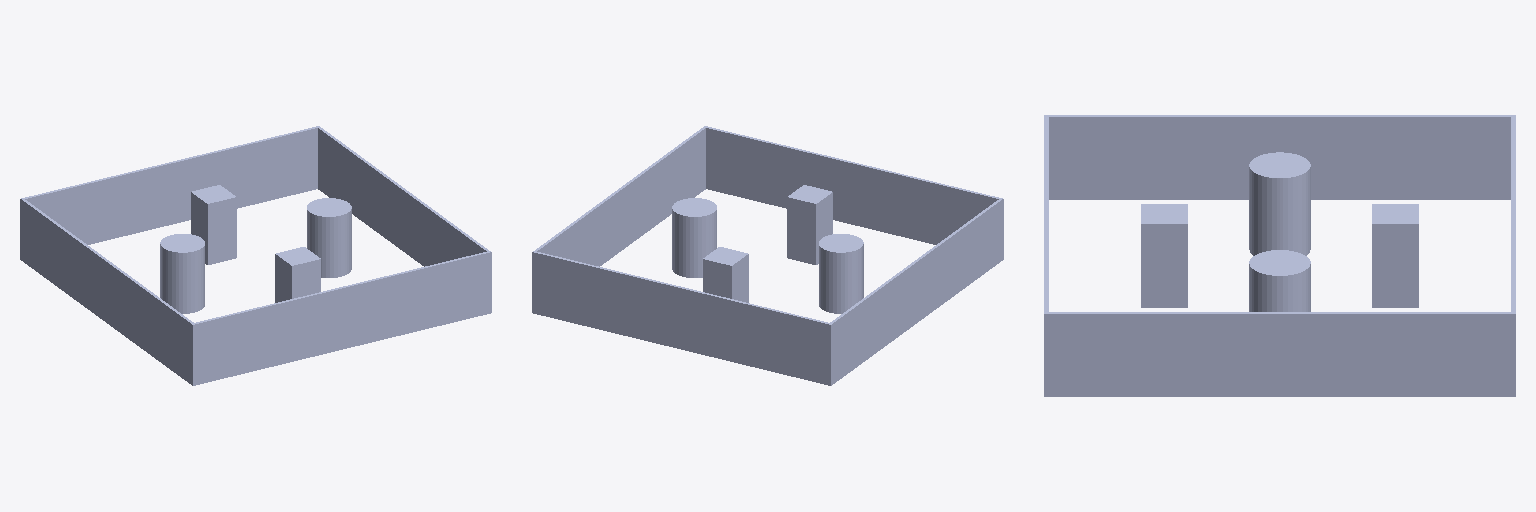
The robot description file, URDF, robot "map1":
<?xml version="1.0" encoding="utf-8"?>
<!-- This URDF was automatically created by SolidWorks to URDF Exporter! Originally created by Stephen Brawner (brawner@gmail.com) 
     Commit Version: 1.6.0-4-g7f85cfe  Build Version: 1.6.7995.38578
     For more information, please see http://wiki.ros.org/sw_urdf_exporter -->
<robot
  name="map1">
  <link
    name="base_link">
    <inertial>
      <origin
        xyz="6.21724893790088E-15 -6.66133814775094E-16 0.299999999999999"
        rpy="0 0 0" />
      <mass
        value="476.956447372311" />
      <inertia
        ixx="350.476905894894"
        ixy="-7.15071013235315E-13"
        ixz="1.3688478683882E-13"
        iyy="350.476905894894"
        iyz="4.42029968183995E-14"
        izz="672.336424947449" />
    </inertial>
    <visual>
      <origin
        xyz="0 0 0"
        rpy="0 0 0" />
      <geometry>
        <mesh
          filename="package://map1/meshes/base_link.STL" />
      </geometry>
      <material
        name="">
        <color
          rgba="0.792156862745098 0.819607843137255 0.933333333333333 1" />
      </material>
    </visual>
    <collision>
      <origin
        xyz="0 0 0"
        rpy="0 0 0" />
      <geometry>
        <mesh
          filename="package://map1/meshes/base_link.STL" />
      </geometry>
    </collision>
  </link>
</robot>

--- Facts derived from the render (not from the file) ---
3 views of the same robot in one strip: view 1: azimuth 30°, elevation 25°; view 2: azimuth 150°, elevation 25°; view 3: azimuth 270°, elevation 25° (orthographic).
Model map1 with 1 links and 0 joints (none), rooted at base_link, posed every joint at zero.
Visible links, largest first — view 1: base_link; view 2: base_link; view 3: base_link.
Link boxes in pixels (box(x1,y1,x2,y2)): base_link: box(20, 126, 491, 385); base_link: box(532, 126, 1003, 385); base_link: box(1044, 115, 1515, 396).
Bounding box of the posed robot: 3.06 × 3.06 × 0.6 m (x, y, z).
Meshes: 1 distinct files referenced, 1 mesh visuals loaded (1 binary STL).
